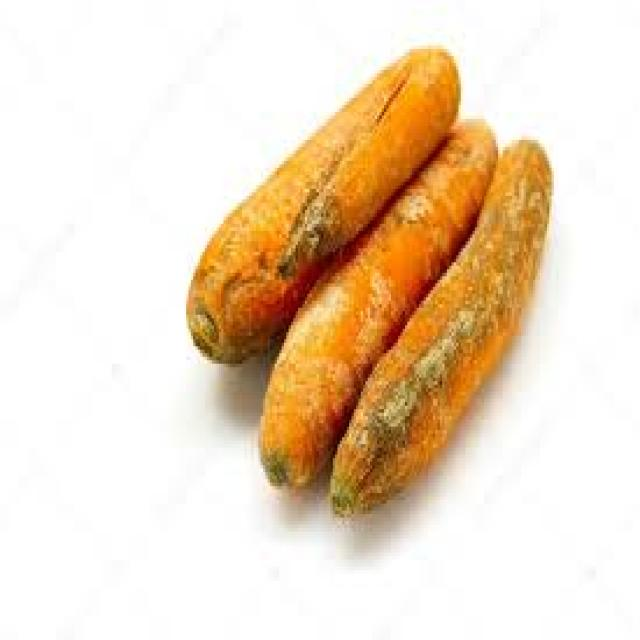Stale_Carrot: (319, 130, 553, 498), (204, 104, 472, 351)
